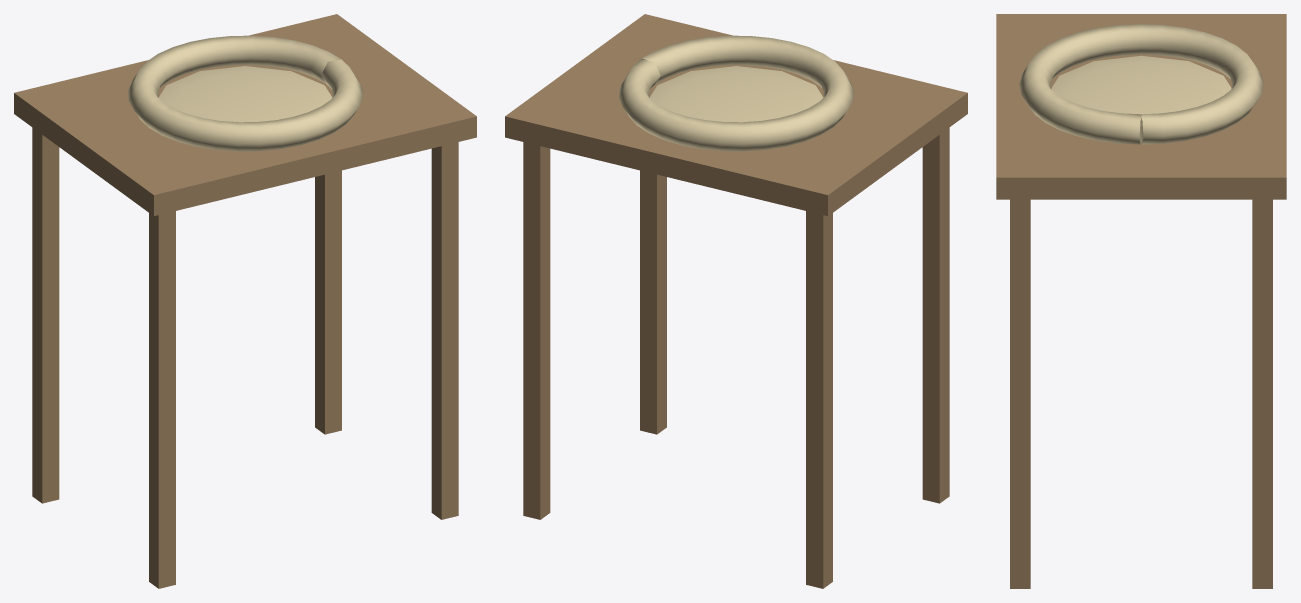
Rendered from zoo-and-safari-park-builder-nest-platform-9cf36850__21481.glb.
3 renders of one model, left to right at view 1: azimuth 30°, elevation 25°; view 2: azimuth 150°, elevation 25°; view 3: azimuth 270°, elevation 25°, orthographic. The views are drawn at different scales.
Parts seen in each view (by area): view 1: nest-platform; view 2: nest-platform; view 3: nest-platform.
Boxes of the visible parts, x1,y1,x2,y2 form: nest-platform: (14, 14, 476, 588); nest-platform: (505, 14, 967, 588); nest-platform: (996, 14, 1286, 588).
Bounding box in the file's own units: 1.6 × 2.01 × 1.2.
